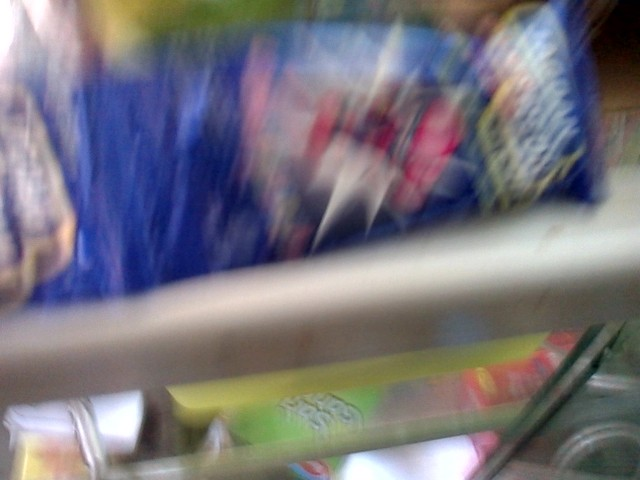jagoan neon: (110, 1, 603, 289)
